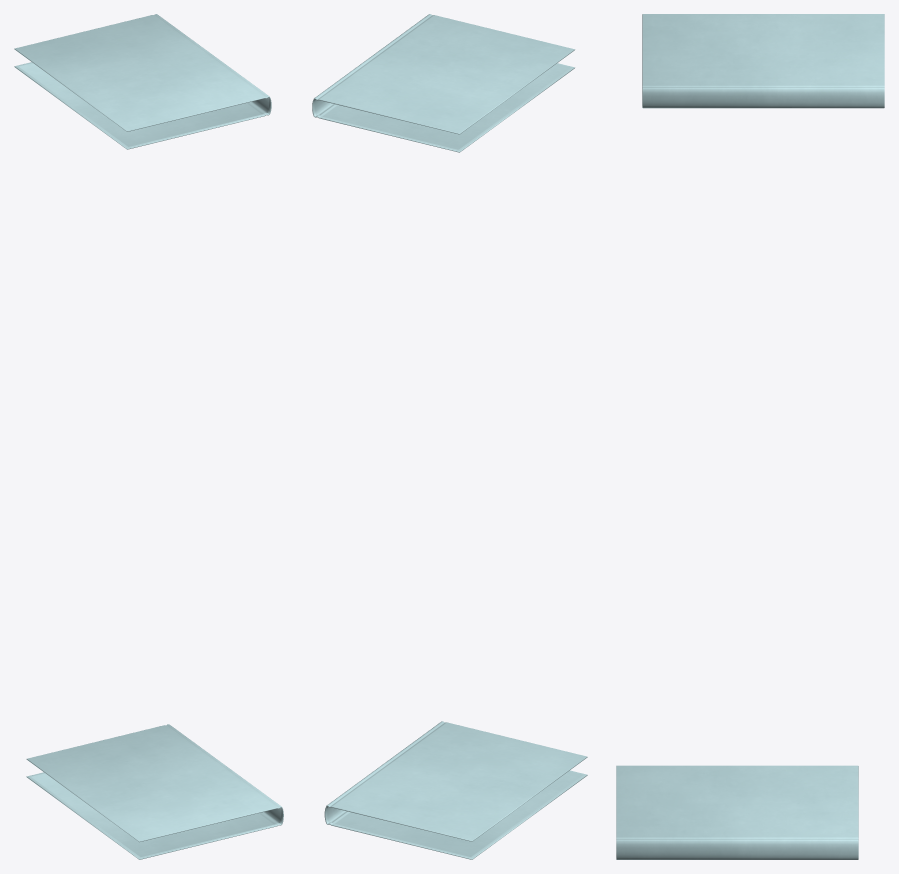
Rendered from bookshelf_0.obj.
3 renders of one model, left to right at view 1: azimuth 30°, elevation 25°; view 2: azimuth 150°, elevation 25°; view 3: azimuth 270°, elevation 25°, orthographic. The views are drawn at different scales.
Size of the model in its own units: 0.2894 by 1.38 by 0.4341.
